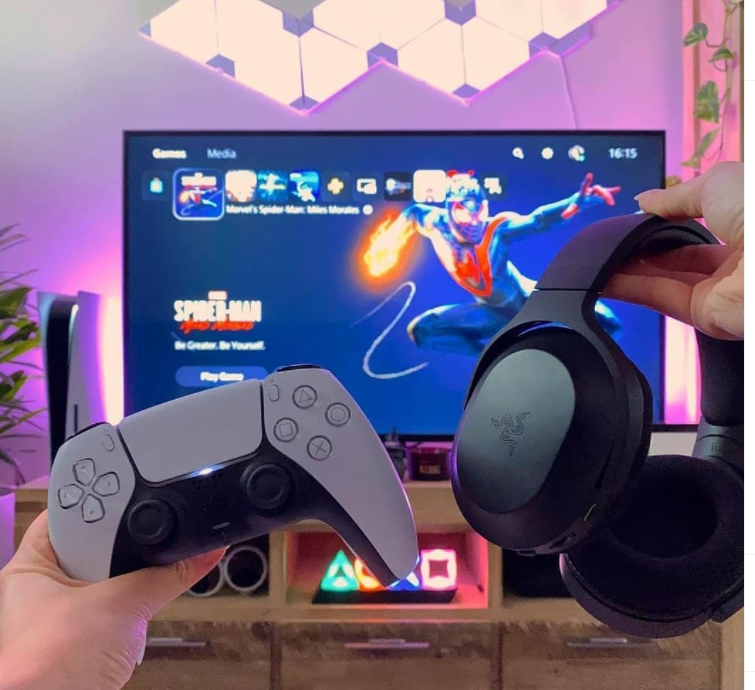gamingconsole: (50, 369, 419, 591)
